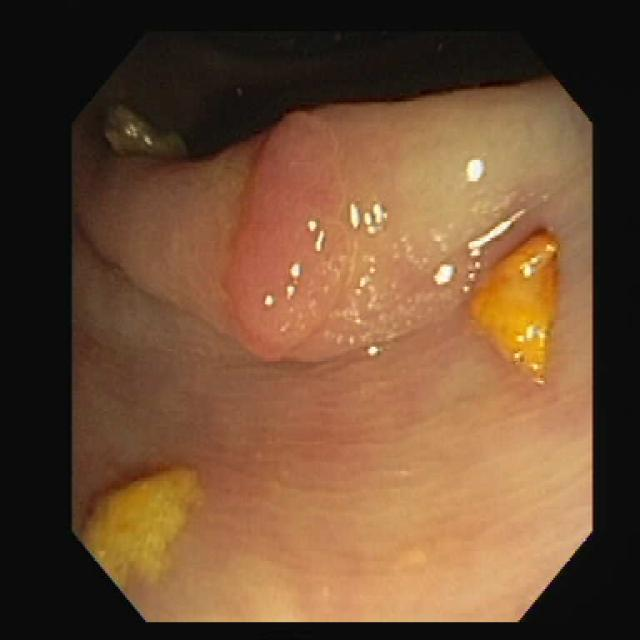tumor: (223, 113, 353, 358)
